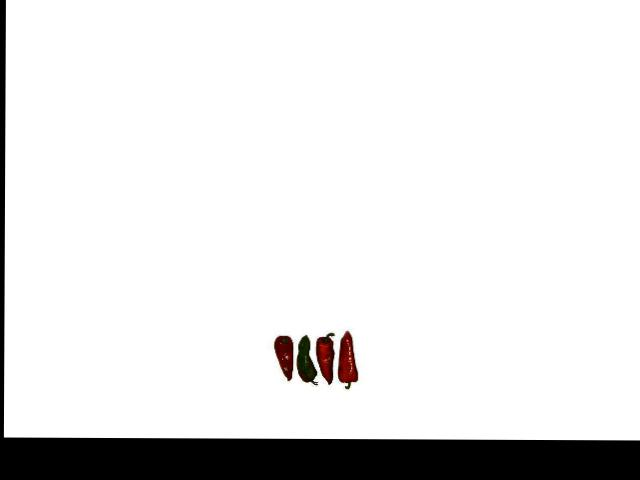bell_pepper: (268, 334, 295, 385)
